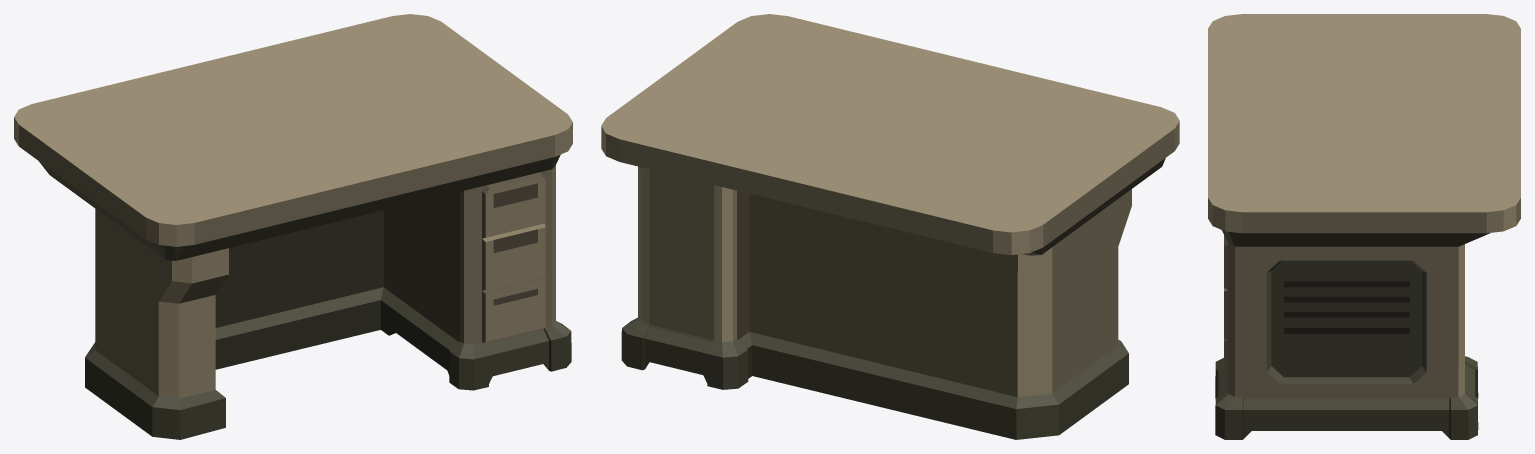
Rendered from CR_Lab2_Desk_01.fbx.
3 views of the same model, side by side, from view 1: azimuth 30°, elevation 25°; view 2: azimuth 150°, elevation 25°; view 3: azimuth 270°, elevation 25° (orthographic). The views are drawn at different scales.
Visible parts, largest first — view 1: CR_Lab2_Desk_01; view 2: CR_Lab2_Desk_01; view 3: CR_Lab2_Desk_01.
Part boxes in pixels (x1,y1,x2,y2): CR_Lab2_Desk_01: (14,14,572,439); CR_Lab2_Desk_01: (601,14,1179,439); CR_Lab2_Desk_01: (1208,14,1520,439).
Size of the model in its own units: 1.5 by 0.8127 by 1.
